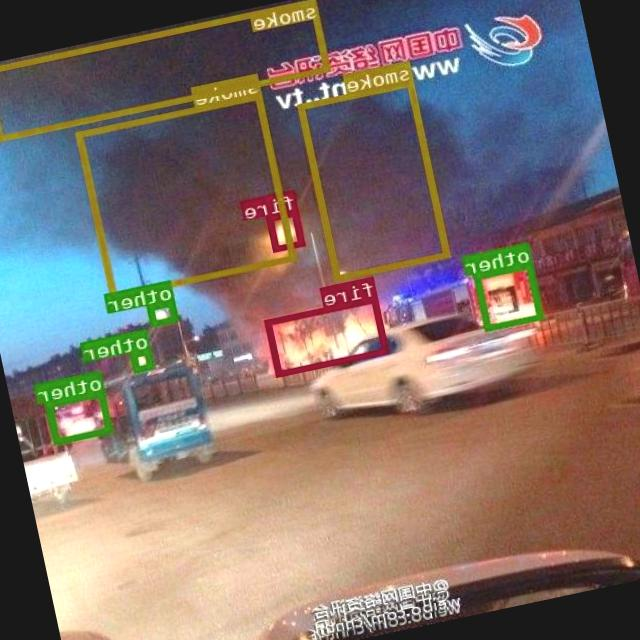fire: (266, 295, 390, 376), (267, 208, 306, 250)
smoke: (0, 0, 331, 141), (76, 91, 297, 298), (298, 78, 451, 279)
